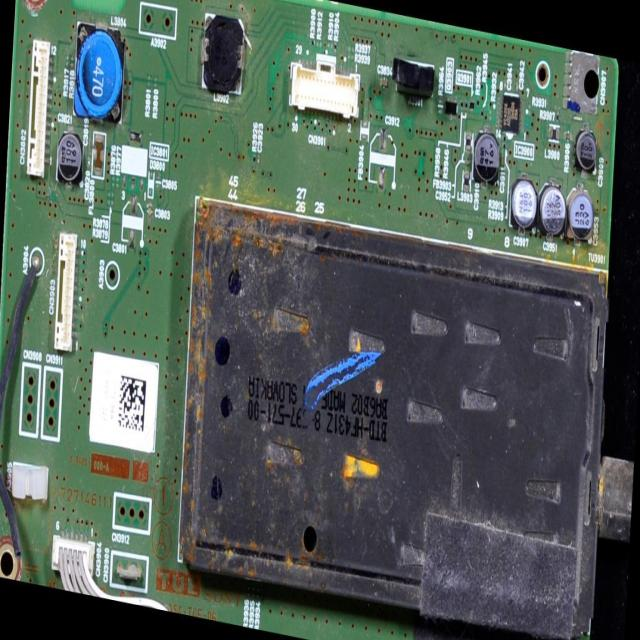Capacitor: (471, 128, 504, 186), (537, 183, 568, 242), (510, 178, 540, 234), (56, 129, 84, 183), (574, 129, 602, 178), (570, 188, 596, 238), (378, 125, 389, 151), (378, 74, 392, 94), (464, 155, 474, 169), (256, 152, 264, 168), (66, 121, 75, 134), (85, 155, 92, 171)
Connector: (24, 38, 52, 180), (54, 232, 86, 356)
IC: (497, 84, 523, 140)
Resistor Network: (526, 99, 534, 122), (146, 199, 154, 219), (145, 71, 153, 90), (436, 97, 444, 115), (250, 148, 258, 166), (554, 106, 561, 126), (105, 188, 116, 200), (564, 128, 572, 144), (65, 52, 72, 70), (153, 74, 160, 92), (309, 34, 317, 48), (348, 52, 357, 64), (347, 44, 356, 55), (487, 108, 493, 124), (244, 583, 250, 599), (111, 174, 117, 189), (316, 38, 324, 49), (479, 105, 485, 119), (70, 54, 76, 68), (249, 587, 255, 600), (332, 41, 339, 52), (255, 591, 262, 602), (106, 198, 115, 206), (503, 142, 510, 152), (464, 99, 469, 112), (460, 95, 464, 111), (116, 175, 120, 191), (327, 42, 334, 51), (501, 133, 507, 141)
Transistor: (468, 100, 476, 110)
